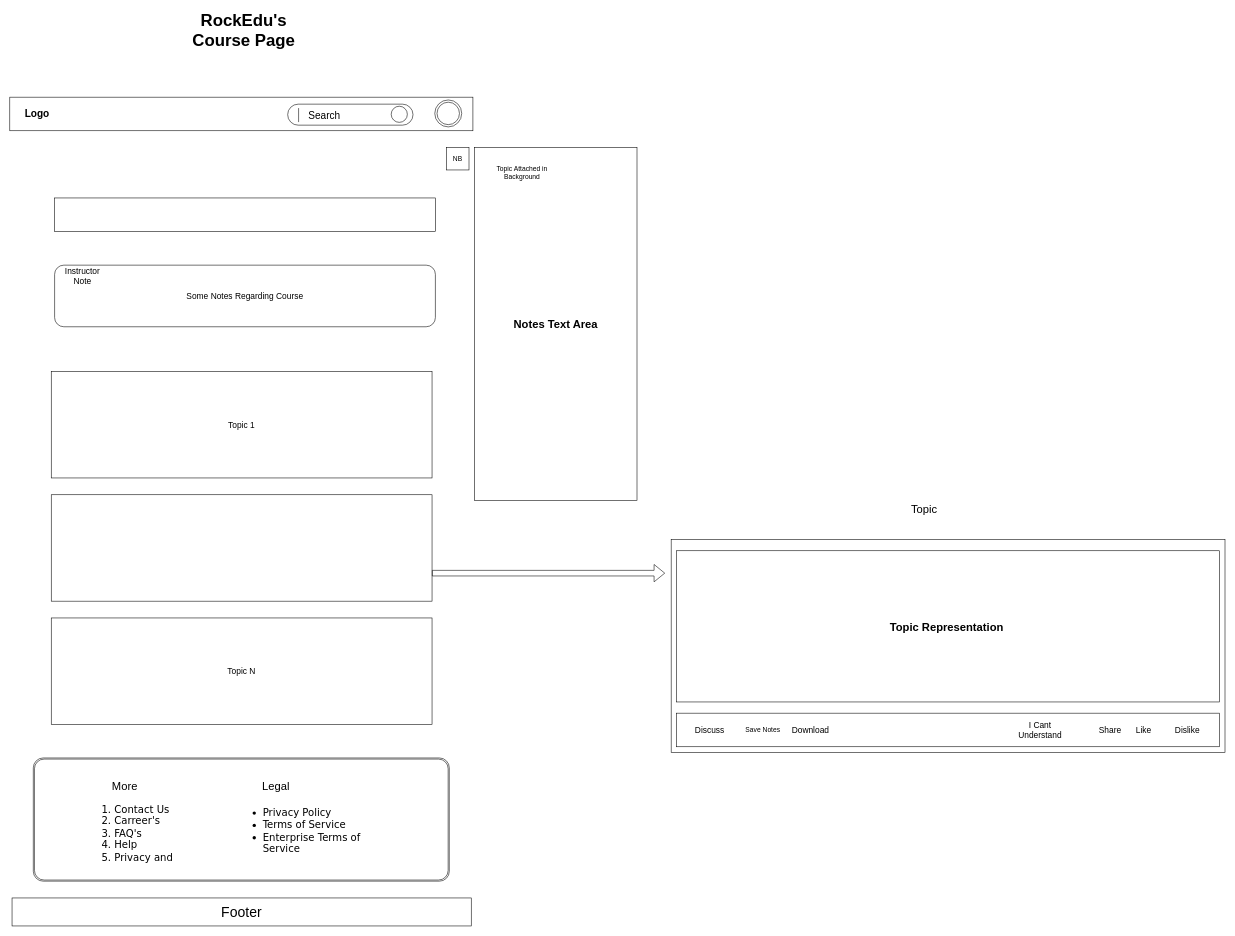
Some shapes in this 1235 by 936 pixel diagram are drawn without their labels. The centre of each missing label's shape, as x and y in pixels:
Progress Bar: pixel 244 214
Topic 2: pixel 241 547
User: pixel 448 113
